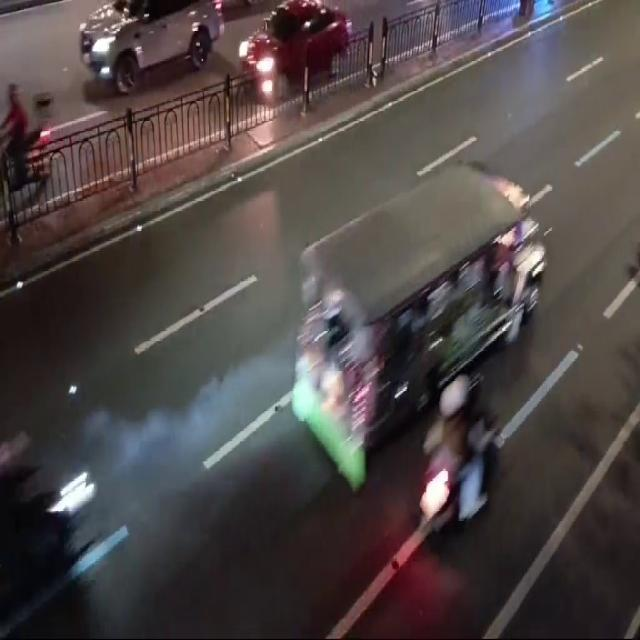car: (86, 0, 222, 92), (236, 5, 354, 104)
jeepney: (295, 163, 544, 456)
motorcycle: (428, 400, 502, 536), (0, 81, 57, 191)
